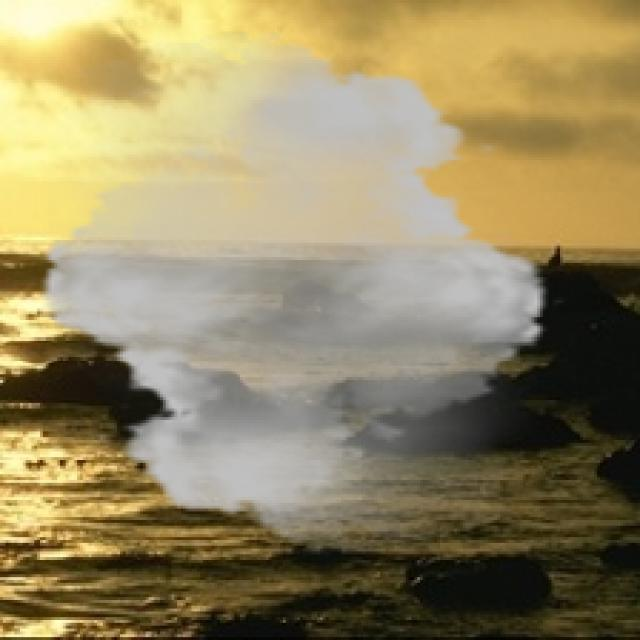Smoke: (20, 32, 569, 554)
